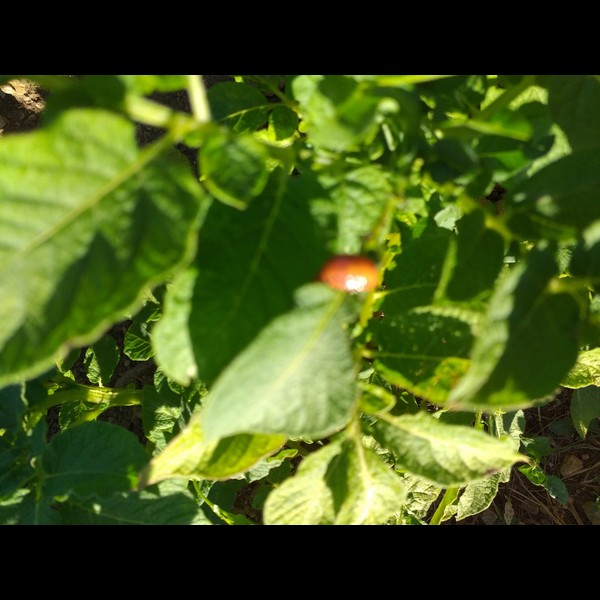hrosc: (317, 252, 382, 295)
